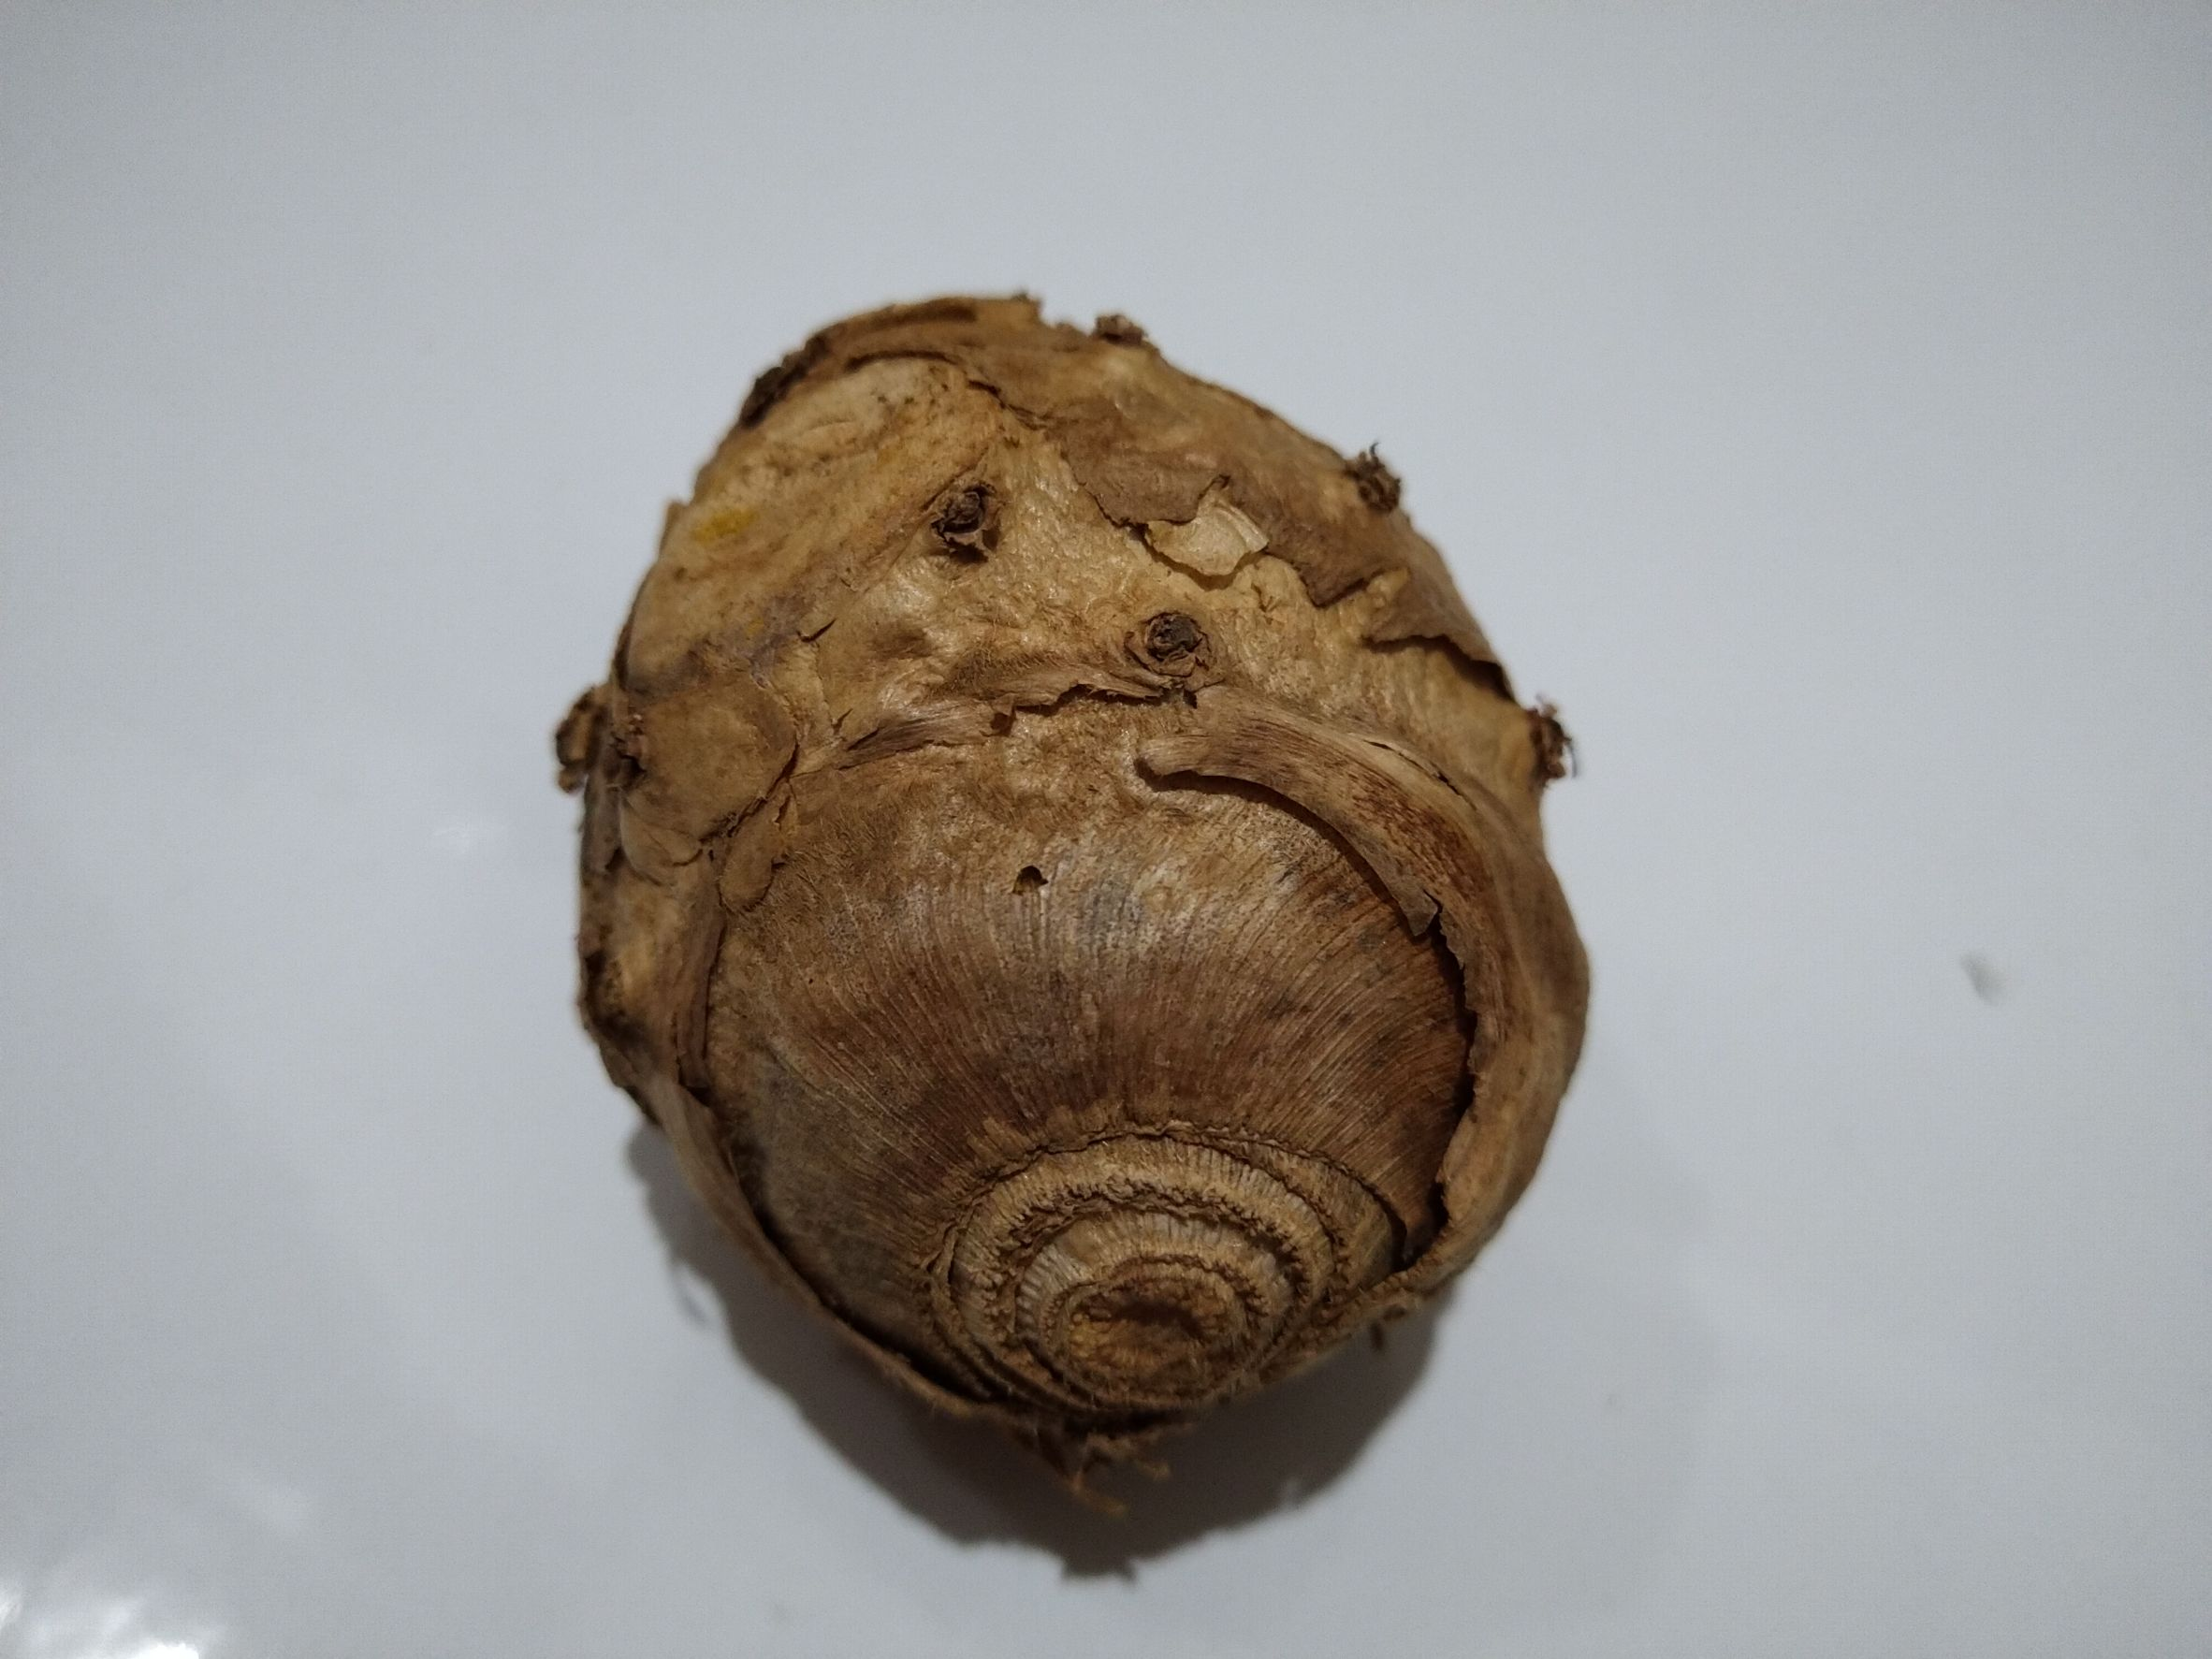Temulawak: (573, 295, 1588, 1544)
